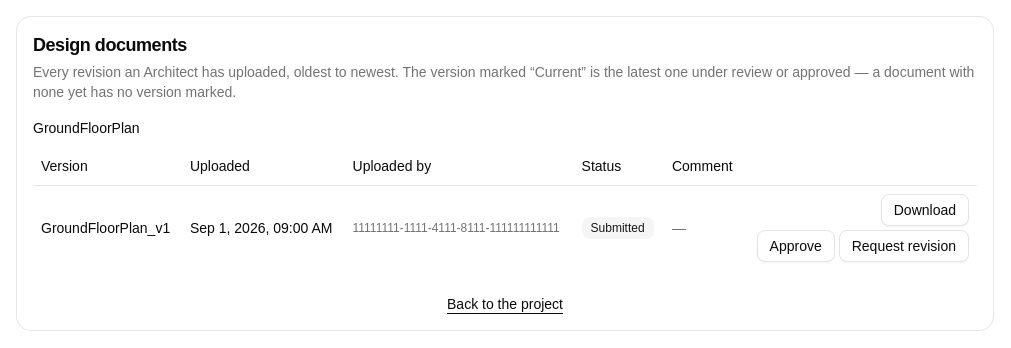
Test: DesignDocumentsPage › lets a Client approve the current version
Click the button "Approve" at (796, 246), box [757,230,835,262]
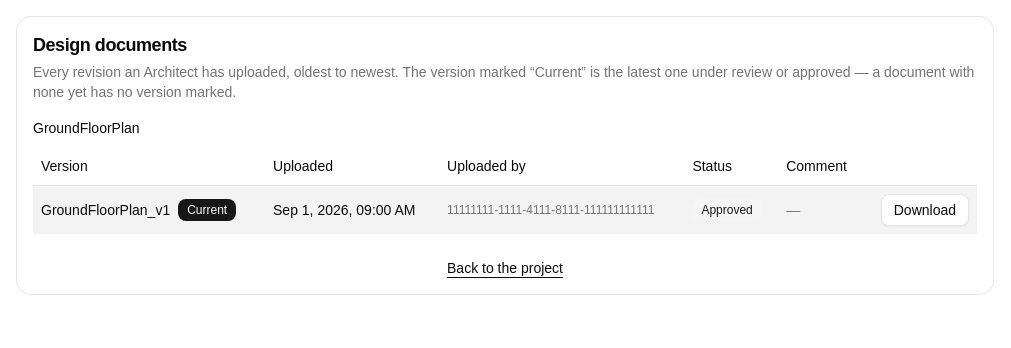
Expected: the text "Approved" is shown, [692,199,762,221]
